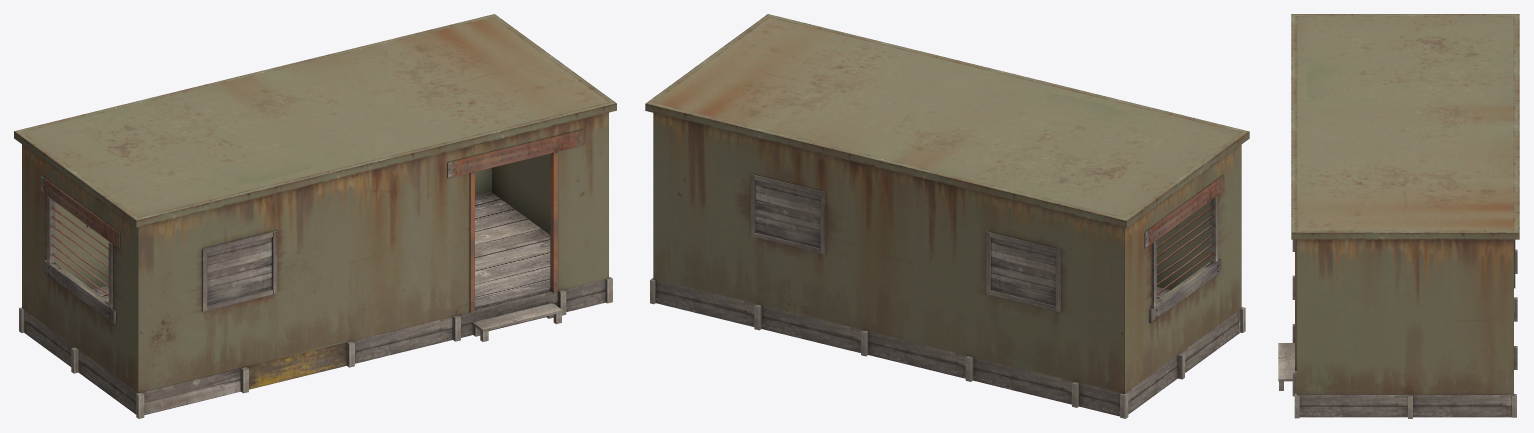
The model's file is container_building.glb.
3 renders of one model, left to right at view 1: azimuth 30°, elevation 25°; view 2: azimuth 150°, elevation 25°; view 3: azimuth 270°, elevation 25°, orthographic. The views are drawn at different scales.
Parts seen in each view (by area): view 1: Building; view 2: Building; view 3: Building.
Part boxes in pixels (<box>): Building: <box>14,14,616,418</box>; Building: <box>645,14,1249,418</box>; Building: <box>1278,14,1519,418</box>.
Size of the model in its own units: 14.3 by 5.68 by 6.66.
Materials: 1 (1 with a texture image).
